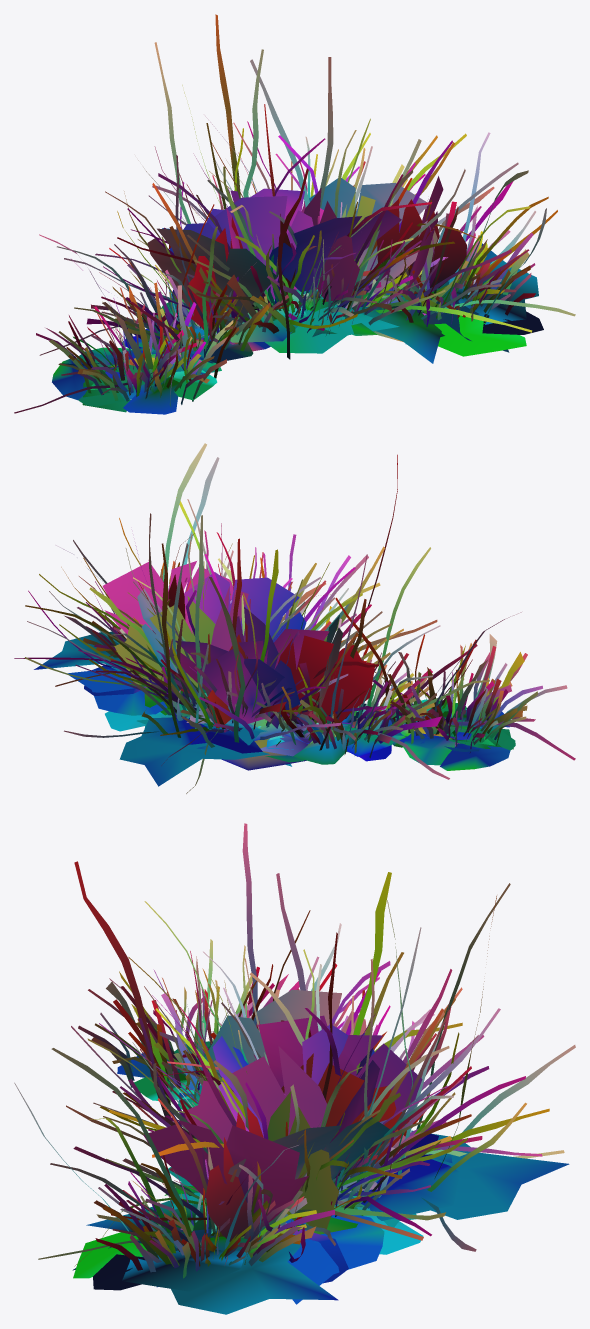
The model's file is Wild_Grass_vdilbaiia_Mid_vdilbaiia_VarK_LOD1.fbx.
3 views of the same model, one above another, from view 1: azimuth 30°, elevation 25°; view 2: azimuth 150°, elevation 25°; view 3: azimuth 270°, elevation 25° (orthographic). The views are drawn at different scales.
Parts seen in each view (by area): view 1: _2sht_VarK_LOD2; view 2: _2sht_VarK_LOD2; view 3: _2sht_VarK_LOD2.
Boxes of the visible parts, left/top/right/bottom form: _2sht_VarK_LOD2: left=14, top=14, right=575, bottom=414; _2sht_VarK_LOD2: left=14, top=443, right=575, bottom=793; _2sht_VarK_LOD2: left=14, top=823, right=575, bottom=1314.
Size of the model in its own units: 158 by 67.82 by 114.
